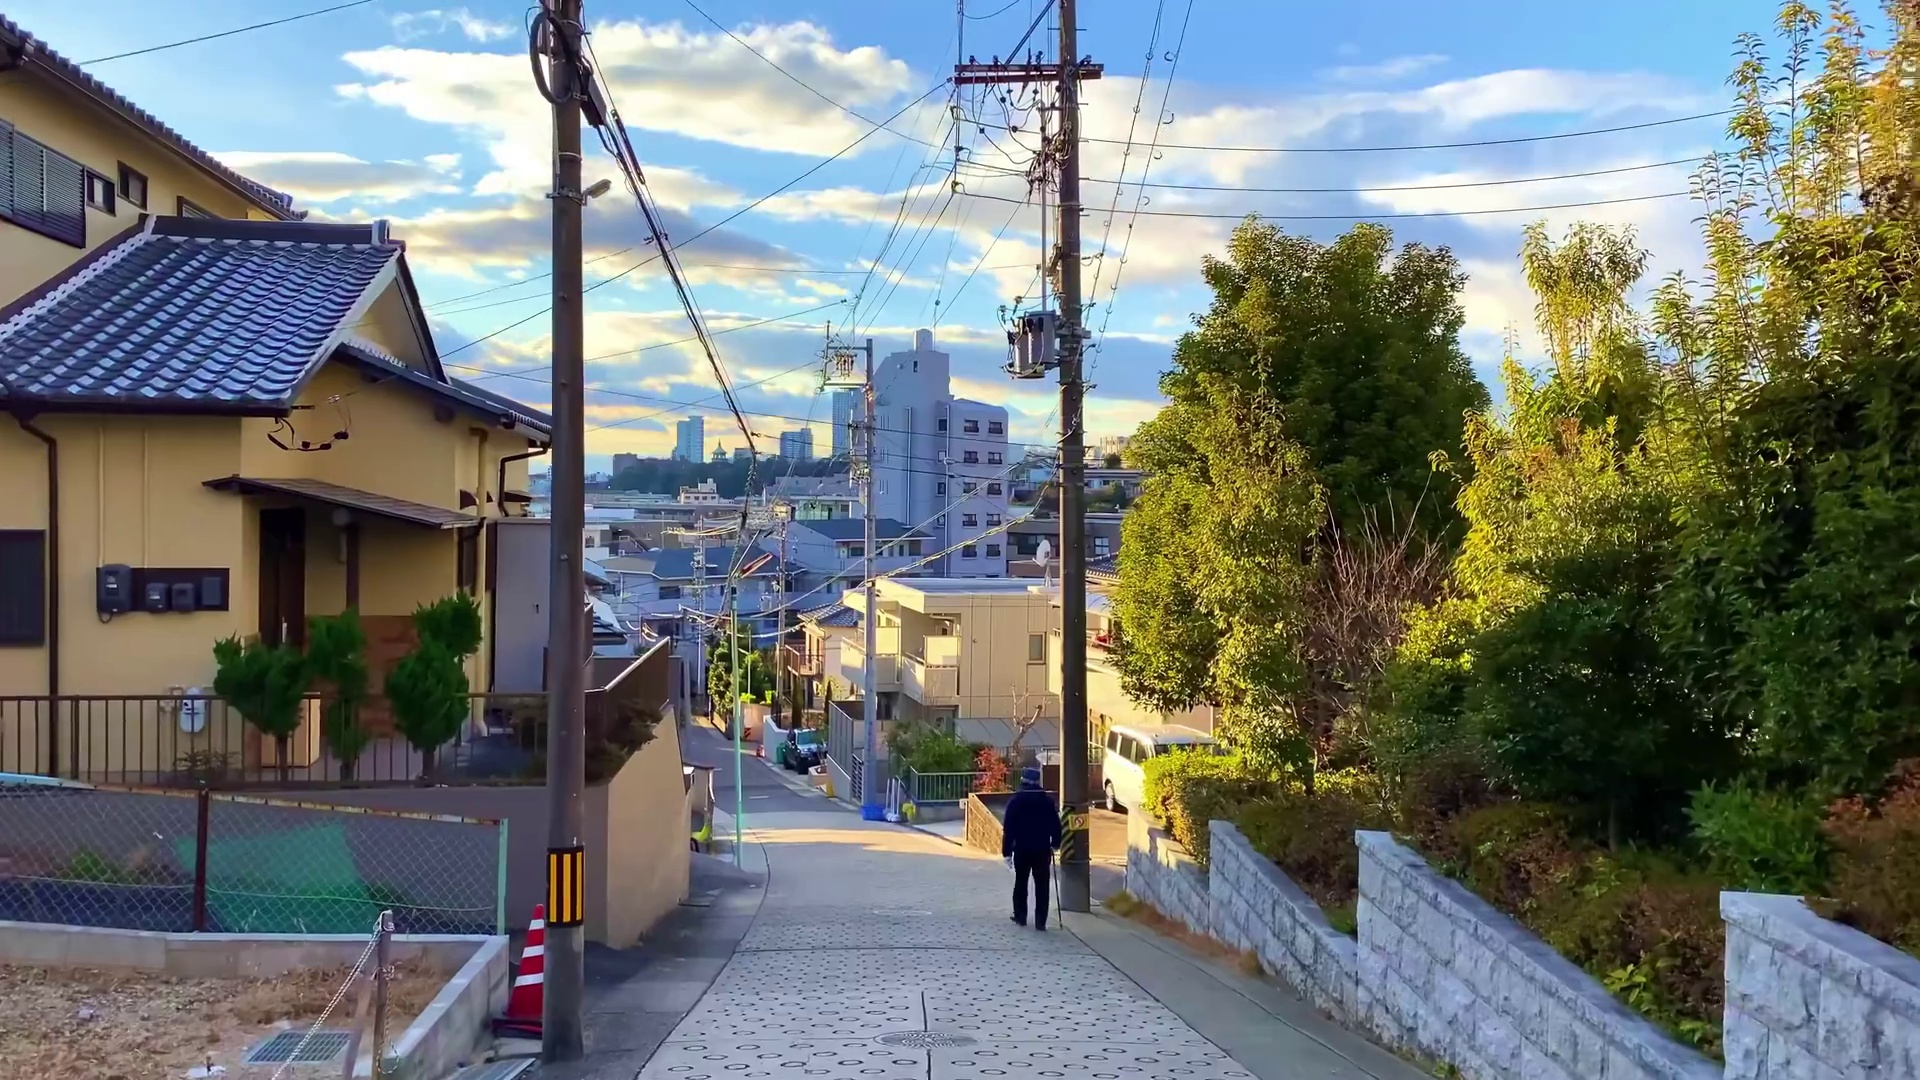person: (1002, 767, 1066, 931)
